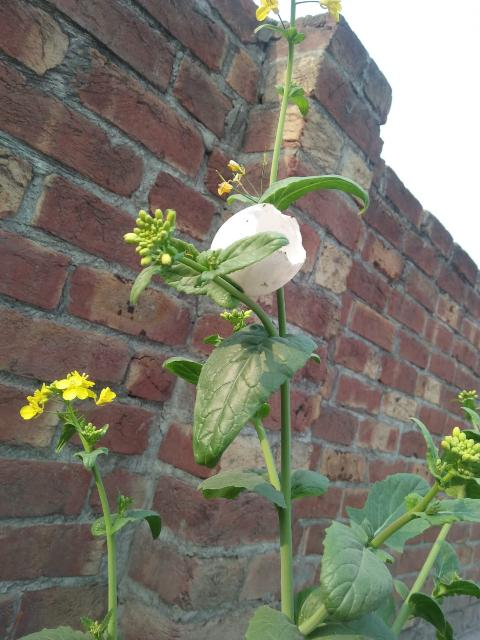Roto: (209, 202, 307, 298)
